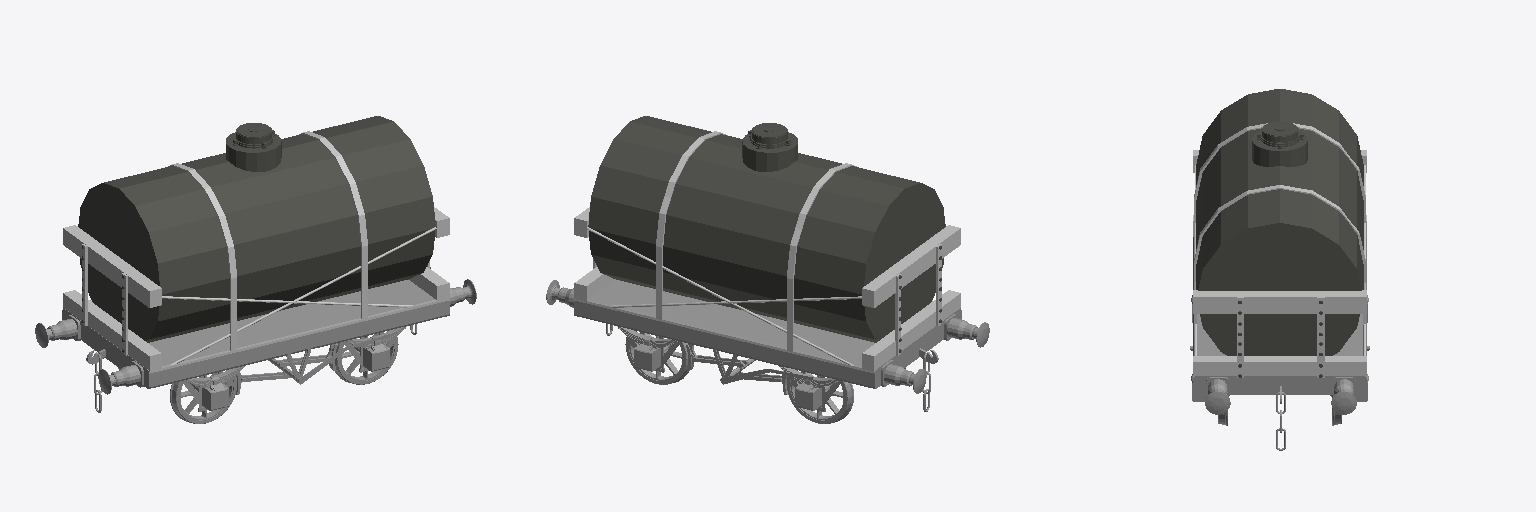
3 views of the same model, side by side, from view 1: azimuth 30°, elevation 25°; view 2: azimuth 150°, elevation 25°; view 3: azimuth 270°, elevation 25° (orthographic).
Visible parts, largest first — view 1: SHELL_Cylinder.004_Cylinder.012, FRAME_Cube.002_FRAME_Cube.033, SHELL.001_Cube.001_Cube.002, FRAME_Cube.001_FRAME_Cube.032, SHELL_Cylinder.045_SHELL_Cylinder.007_SHELL_Cylinder.045_SH.008, Cube.032_Cube.001_Cube.032_Cube.003, Cube.032_Cube.000_Cube.032_Cube.002, Cylinder.008_Cylinder.017, FRAME_WHEEL_1_Cylinder.000_FRAME_WHEEL_1_Cylinder.001, FRAME_WHEEL_2_Cylinder.000_FRAME_WHEEL_2_Cylinder.001, Cube.025_Cube.000_Cube.025_Cube.002, SHELL_Cylinder.045_SHELL_Cylinder.002_SHELL_Cylinder.045_SH.003; view 2: SHELL_Cylinder.004_Cylinder.012, FRAME_Cube.002_FRAME_Cube.033, SHELL.001_Cube.001_Cube.002, FRAME_Cube.001_FRAME_Cube.032, SHELL_Cylinder.045_SHELL_Cylinder.007_SHELL_Cylinder.045_SH.008, Cube.032_Cube.000_Cube.032_Cube.002, Cube.032_Cube.001_Cube.032_Cube.003, Cylinder.008_Cylinder.017, FRAME_WHEEL_1_Cylinder.000_FRAME_WHEEL_1_Cylinder.001, FRAME_WHEEL_2_Cylinder.000_FRAME_WHEEL_2_Cylinder.001, Cube.025_Cube.000_Cube.025_Cube.002, SHELL_Cylinder.045_SHELL_Cylinder.002_SHELL_Cylinder.045_SH.003; view 3: SHELL_Cylinder.004_Cylinder.012, SHELL.001_Cube.001_Cube.002, FRAME_Cube.002_FRAME_Cube.033, Cube.032_Cube.001_Cube.032_Cube.003, Cube.025_Cube.001_Cube.025_Cube.003, SHELL_Cylinder.045_SHELL_Cylinder.002_SHELL_Cylinder.045_SH.003, Cube.032_Cube.000_Cube.032_Cube.002, SHELL_Cylinder.045_SHELL_Cylinder.007_SHELL_Cylinder.045_SH.008.
Boxes of the visible parts, x1,y1,x2,y2 form: SHELL_Cylinder.004_Cylinder.012: [78, 116, 435, 342]; FRAME_Cube.002_FRAME_Cube.033: [62, 280, 449, 388]; SHELL.001_Cube.001_Cube.002: [63, 207, 449, 371]; FRAME_Cube.001_FRAME_Cube.032: [182, 326, 406, 411]; SHELL_Cylinder.045_SHELL_Cylinder.007_SHELL_Cylinder.045_SH.008: [46, 287, 470, 387]; Cube.032_Cube.001_Cube.032_Cube.003: [296, 131, 367, 319]; Cube.032_Cube.000_Cube.032_Cube.002: [168, 163, 236, 351]; Cylinder.008_Cylinder.017: [90, 227, 436, 364]; FRAME_WHEEL_1_Cylinder.000_FRAME_WHEEL_1_Cylinder.001: [118, 368, 236, 423]; FRAME_WHEEL_2_Cylinder.000_FRAME_WHEEL_2_Cylinder.001: [335, 330, 398, 384]; Cube.025_Cube.000_Cube.025_Cube.002: [82, 244, 127, 355]; SHELL_Cylinder.045_SHELL_Cylinder.002_SHELL_Cylinder.045_SH.003: [35, 279, 476, 394]; SHELL_Cylinder.004_Cylinder.012: [588, 116, 945, 342]; FRAME_Cube.002_FRAME_Cube.033: [574, 280, 961, 388]; SHELL.001_Cube.001_Cube.002: [574, 207, 960, 371]; FRAME_Cube.001_FRAME_Cube.032: [617, 326, 841, 411]; SHELL_Cylinder.045_SHELL_Cylinder.007_SHELL_Cylinder.045_SH.008: [552, 287, 978, 386]; Cube.032_Cube.000_Cube.032_Cube.002: [787, 163, 856, 351]; Cube.032_Cube.001_Cube.032_Cube.003: [656, 131, 727, 319]; Cylinder.008_Cylinder.017: [587, 227, 932, 365]; FRAME_WHEEL_1_Cylinder.000_FRAME_WHEEL_1_Cylinder.001: [787, 368, 905, 423]; FRAME_WHEEL_2_Cylinder.000_FRAME_WHEEL_2_Cylinder.001: [625, 330, 688, 384]; Cube.025_Cube.000_Cube.025_Cube.002: [895, 244, 941, 355]; SHELL_Cylinder.045_SHELL_Cylinder.002_SHELL_Cylinder.045_SH.003: [546, 280, 989, 393]; SHELL_Cylinder.004_Cylinder.012: [1196, 89, 1363, 355]; SHELL.001_Cube.001_Cube.002: [1193, 150, 1366, 377]; FRAME_Cube.002_FRAME_Cube.033: [1193, 237, 1366, 394]; Cube.032_Cube.001_Cube.032_Cube.003: [1194, 185, 1365, 336]; Cube.025_Cube.001_Cube.025_Cube.003: [1237, 297, 1324, 377]; SHELL_Cylinder.045_SHELL_Cylinder.002_SHELL_Cylinder.045_SH.003: [1205, 391, 1356, 414]; Cube.032_Cube.000_Cube.032_Cube.002: [1194, 123, 1365, 257]; SHELL_Cylinder.045_SHELL_Cylinder.007_SHELL_Cylinder.045_SH.008: [1206, 377, 1355, 396].
Bounding box in the file's own units: 5.92 × 3.9 × 2.5.
12 materials, 1 textured.